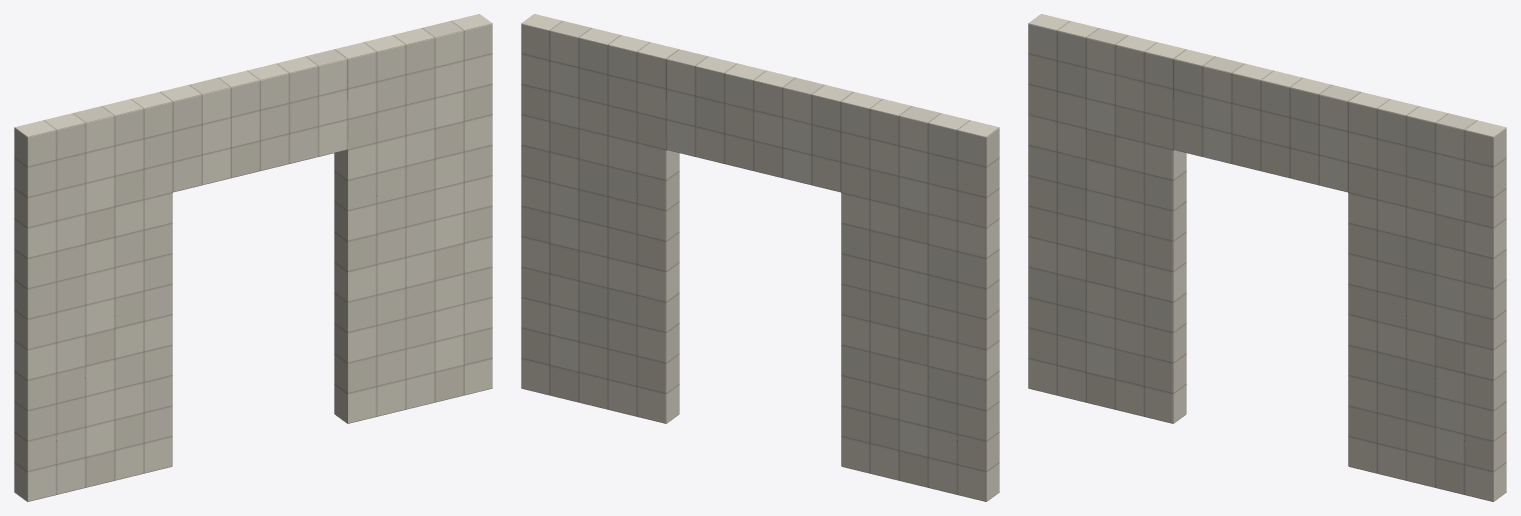
Rendered from MOD_07_Wall_NarrowOpening.glb.
The picture shows the model from 3 angles, left to right: view 1: azimuth 30°, elevation 25°; view 2: azimuth 150°, elevation 25°; view 3: azimuth 330°, elevation 25°; orthographic projection.
Parts seen in each view (by area): view 1: MOD_07_Wall_NarrowOpening_Export; view 2: MOD_07_Wall_NarrowOpening_Export; view 3: MOD_07_Wall_NarrowOpening_Export.
Part boxes in pixels (left/top/right/bottom): MOD_07_Wall_NarrowOpening_Export: left=14, top=14, right=492, bottom=501; MOD_07_Wall_NarrowOpening_Export: left=521, top=14, right=999, bottom=501; MOD_07_Wall_NarrowOpening_Export: left=1028, top=14, right=1506, bottom=501.
Size of the model in its own units: 4 by 3 by 0.2.
1 material, 1 textured.
